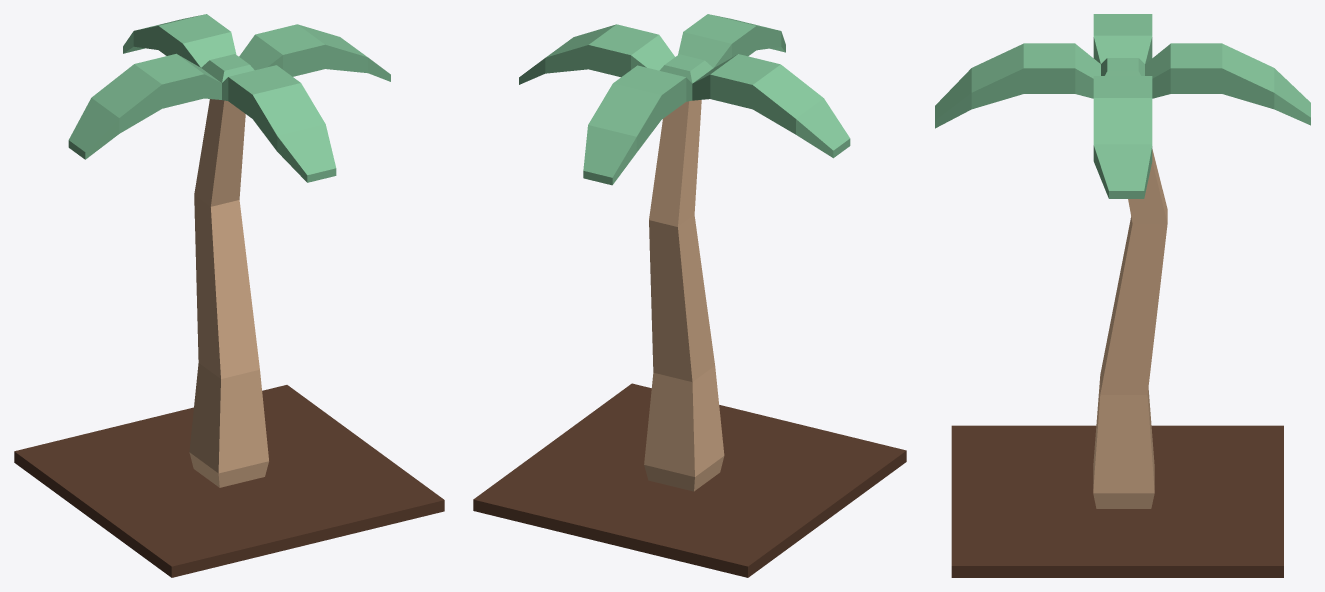
Rendered from short-palm-tree.gltf.
3 renders of one model, left to right at view 1: azimuth 30°, elevation 25°; view 2: azimuth 150°, elevation 25°; view 3: azimuth 270°, elevation 25°, orthographic. The views are drawn at different scales.
Visible parts, largest first — view 1: Plane, Group 30, Group 28; view 2: Plane, Group 30, Group 28; view 3: Plane, Group 30, Group 28.
Part boxes in pixels (box(x1,y1,x2,y2)): Plane: box(14, 385, 444, 577); Group 30: box(68, 14, 390, 182); Group 28: box(189, 99, 268, 487); Plane: box(473, 383, 906, 577); Group 30: box(519, 14, 850, 185); Group 28: box(644, 100, 724, 491); Plane: box(951, 425, 1283, 577); Group 30: box(935, 14, 1310, 198); Group 28: box(1093, 149, 1167, 508).
Bounding box in the file's own units: 2.26 × 3.01 × 2.26.
